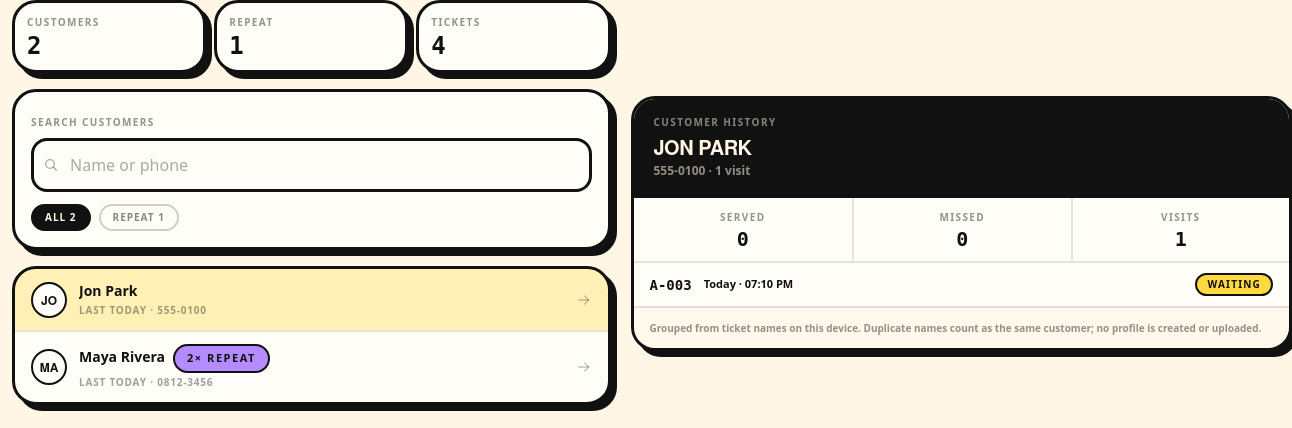
Test: customer directory › searches by name and filters to repeat visitors
Check: the button "Ma Maya Rivera 2× repeat Last Today · 0812-3456" is shown, box [15,332,608,402]
Step 1. Type "Jon" into the field labelled "Search customers" → x=311, y=165, box [31,138,592,192]
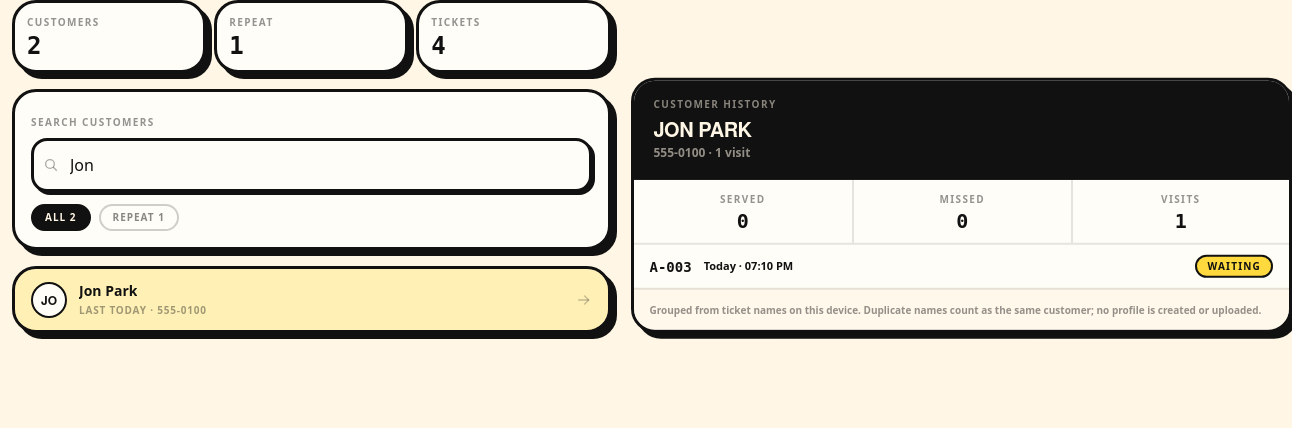
Check: the button "Jo Jon Park Last Today · 555-0100" is shown, box [15,269,608,330]
Check: the button "Maya Rivera" is gone
Step 2. Clear the field labelled "Search customers" → x=311, y=165, box [31,138,592,192]
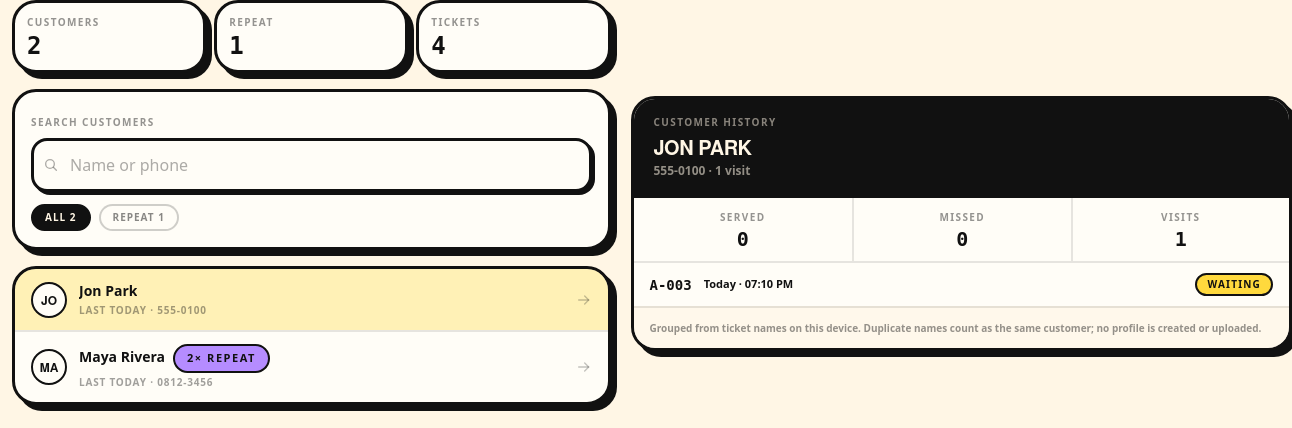
Step 3. Click the button "Repeat 1" → x=139, y=218, box [98,204,179,231]
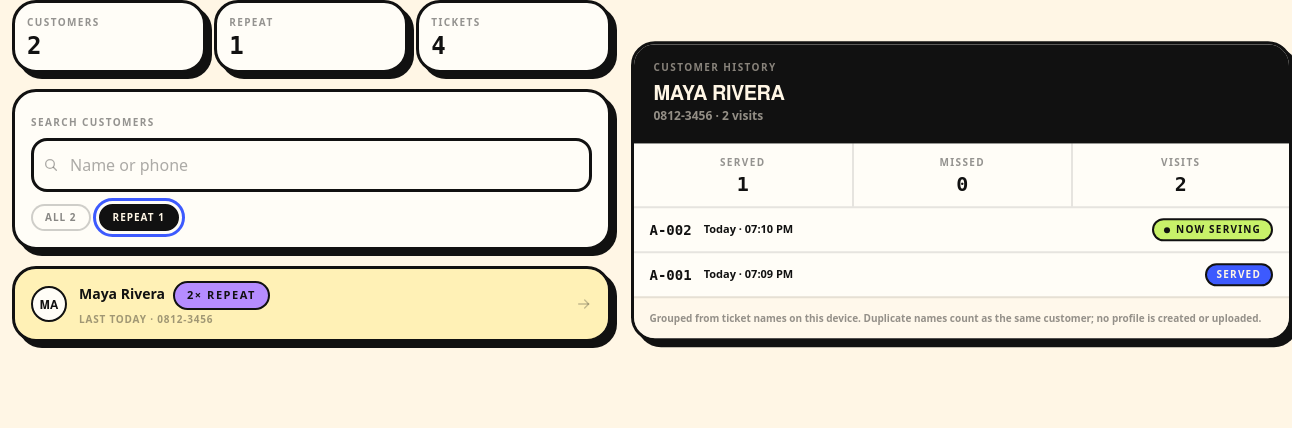
Check: the button "Ma Maya Rivera 2× repeat Last Today · 0812-3456" is shown, box [15,269,608,338]
Check: the button "Jon Park" is gone
